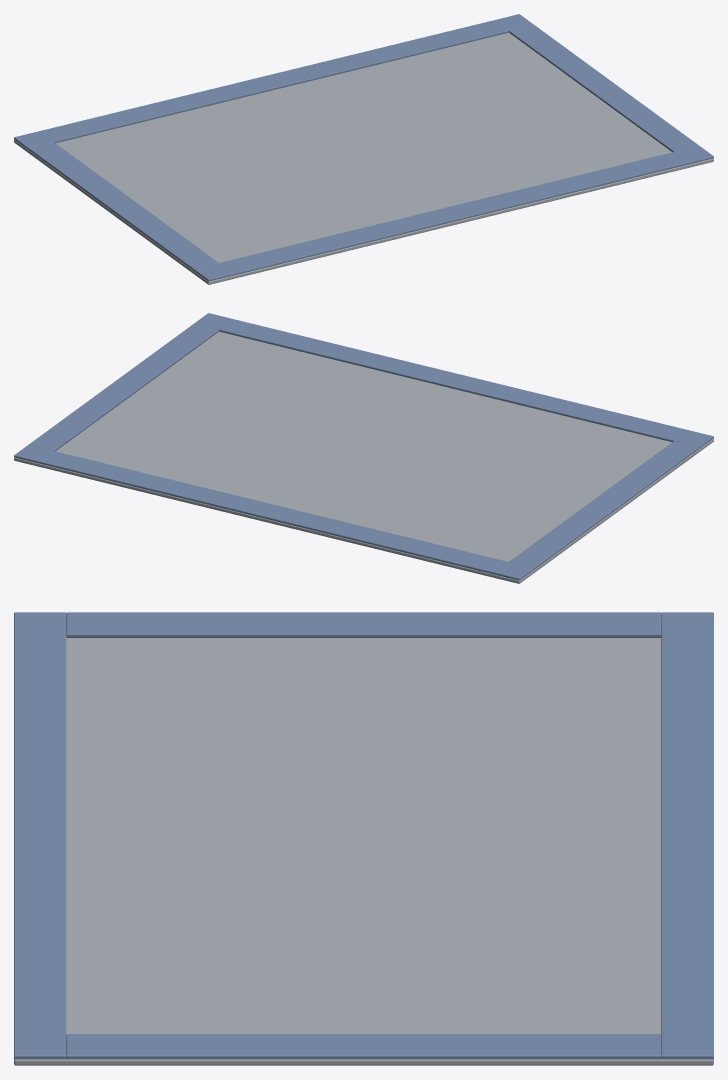
The model's file is rug.glb.
3 renders of one model, top to bottom at view 1: azimuth 30°, elevation 25°; view 2: azimuth 150°, elevation 25°; view 3: azimuth 270°, elevation 25°, orthographic. The views are drawn at different scales.
Parts seen in each view (by area): view 1: Rug; view 2: Rug; view 3: Rug.
Boxes of the visible parts, x1,y1,x2,y2 form: Rug: (14, 14, 713, 284); Rug: (14, 313, 713, 583); Rug: (14, 612, 713, 1065).
Bounding box in the file's own units: 2.88 × 0.0312 × 1.92.
